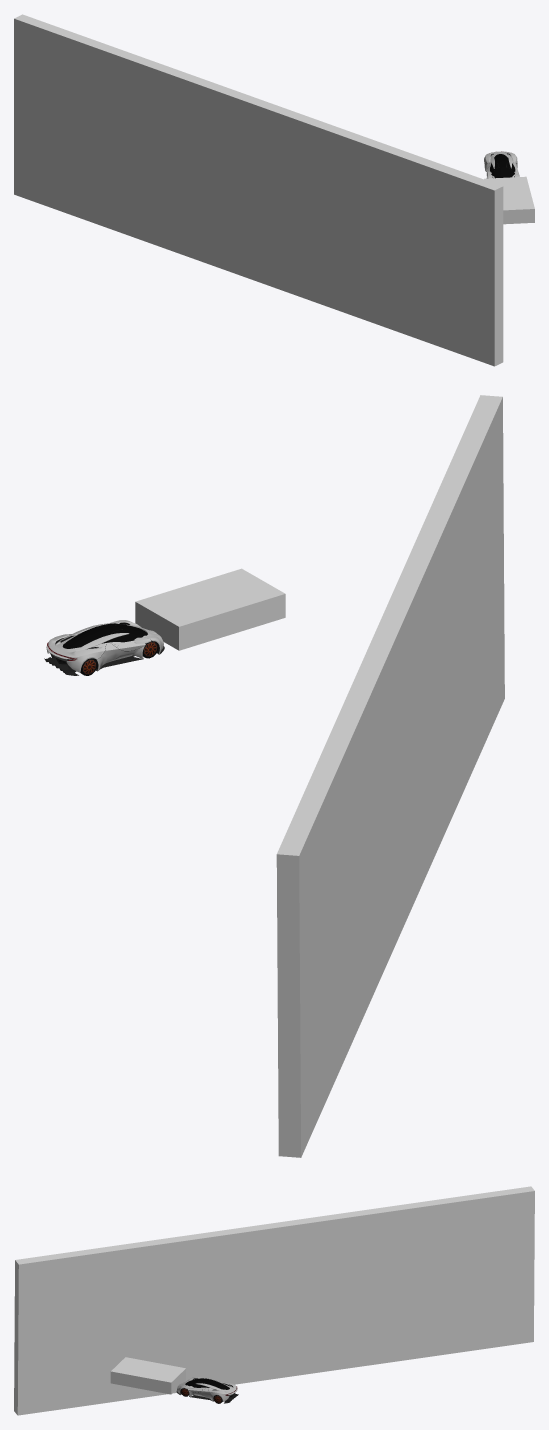
The model's file is SmartCar_Concept_AI_5.fbx.
3 renders of one model, top to bottom at view 1: azimuth 30°, elevation 25°; view 2: azimuth 150°, elevation 25°; view 3: azimuth 270°, elevation 25°, orthographic. The views are drawn at different scales.
Parts seen in each view (by area): view 1: Trigger, front_detector, Body; view 2: Trigger, front_detector, Body; view 3: Trigger, front_detector, Body.
Boxes of the visible parts, x1=… form: Trigger: x1=14, y1=14, x2=503, y2=366; front_detector: x1=484, y1=176, x2=534, y2=224; Body: x1=484, y1=151, x2=519, y2=178; Trigger: x1=276, y1=395, x2=504, y2=1157; front_detector: x1=135, y1=568, x2=285, y2=650; Body: x1=44, y1=620, x2=164, y2=675; Trigger: x1=14, y1=1186, x2=534, y2=1415; front_detector: x1=110, y1=1357, x2=185, y2=1394; Body: x1=176, y1=1377, x2=238, y2=1403.
Size of what is drawn, in the model's own units: 2443 by 1285 by 3942.
